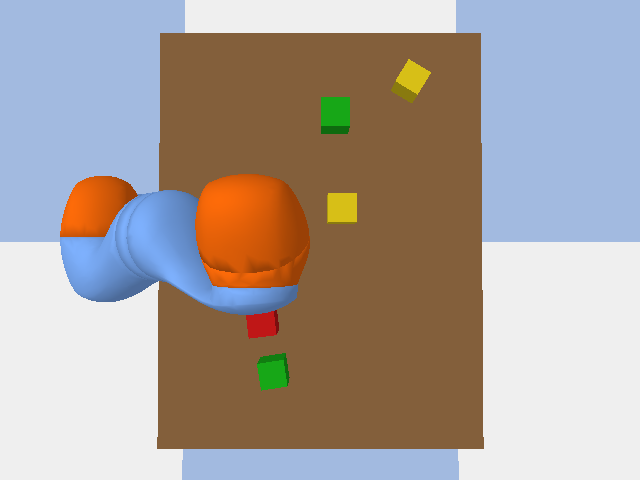green_obj: (257, 353, 289, 390), (321, 97, 349, 133)
red_obj: (246, 310, 278, 338)
yellow_obj: (391, 59, 430, 102), (327, 193, 356, 223)
